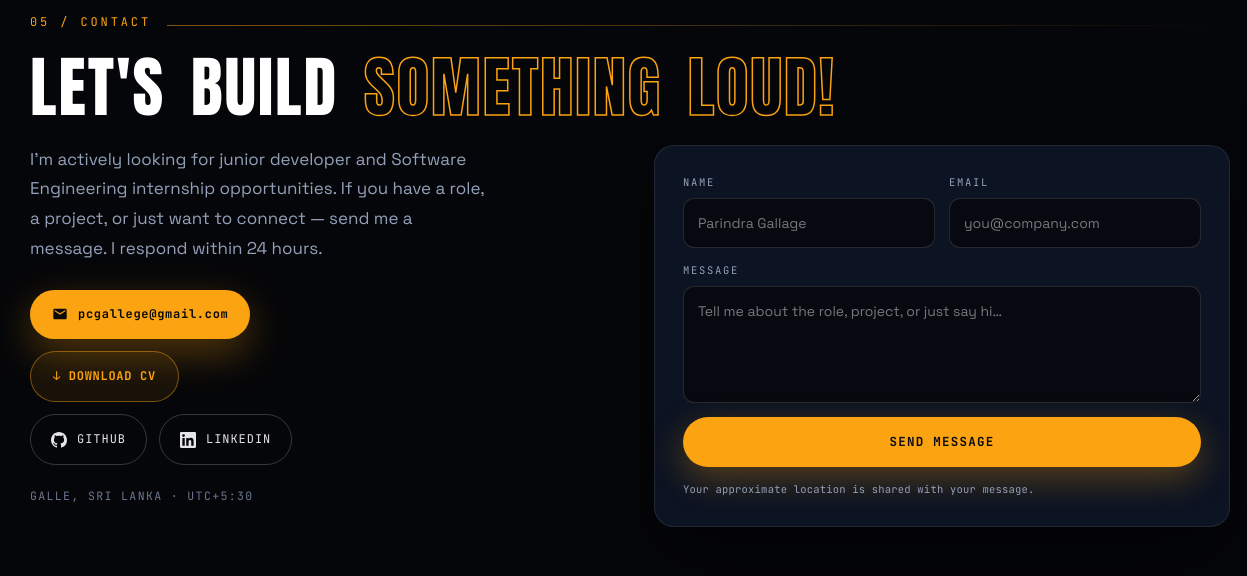
Test: form submission (Step 9 #11, #12, #13) › rejects a malformed email with the prototype's own copy
Step 1. Type "Ada" into the field labelled "NAME" → (809, 223), box [683,198,935,248]
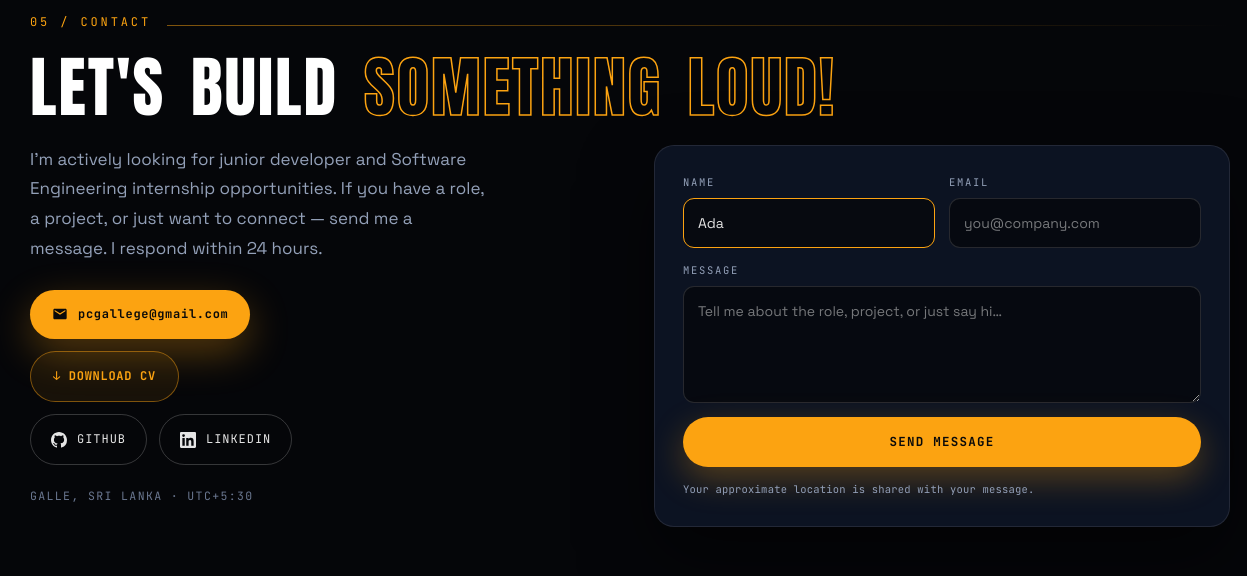
Step 2. Type "not-an-email" into the field labelled "EMAIL" → (1075, 223), box [949,198,1201,248]
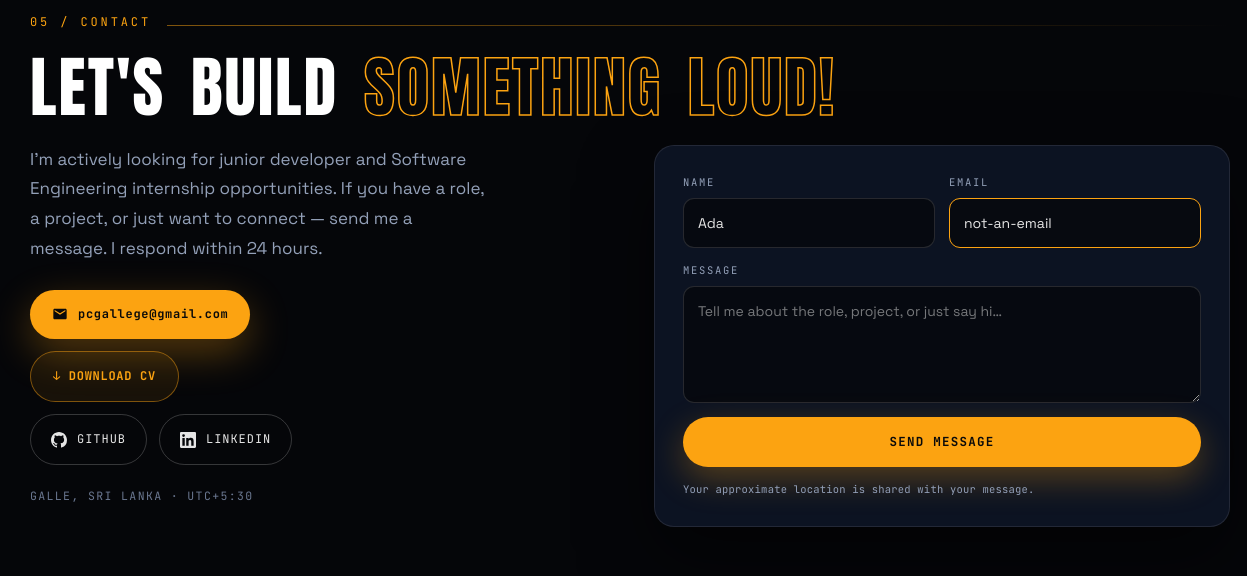
Step 3. Type "Hello there, this is long enough." into the text box labelled "MESSAGE" → (942, 344), box [683,286,1201,403]
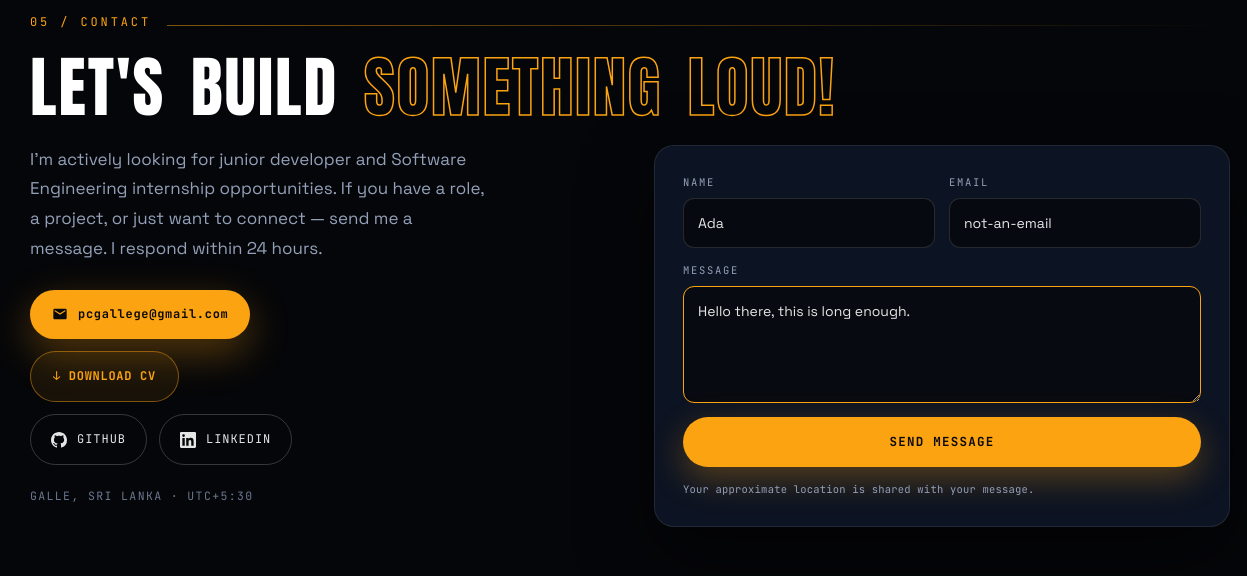
Step 4. Click the button "SEND MESSAGE" → (942, 442), box [683,417,1201,467]
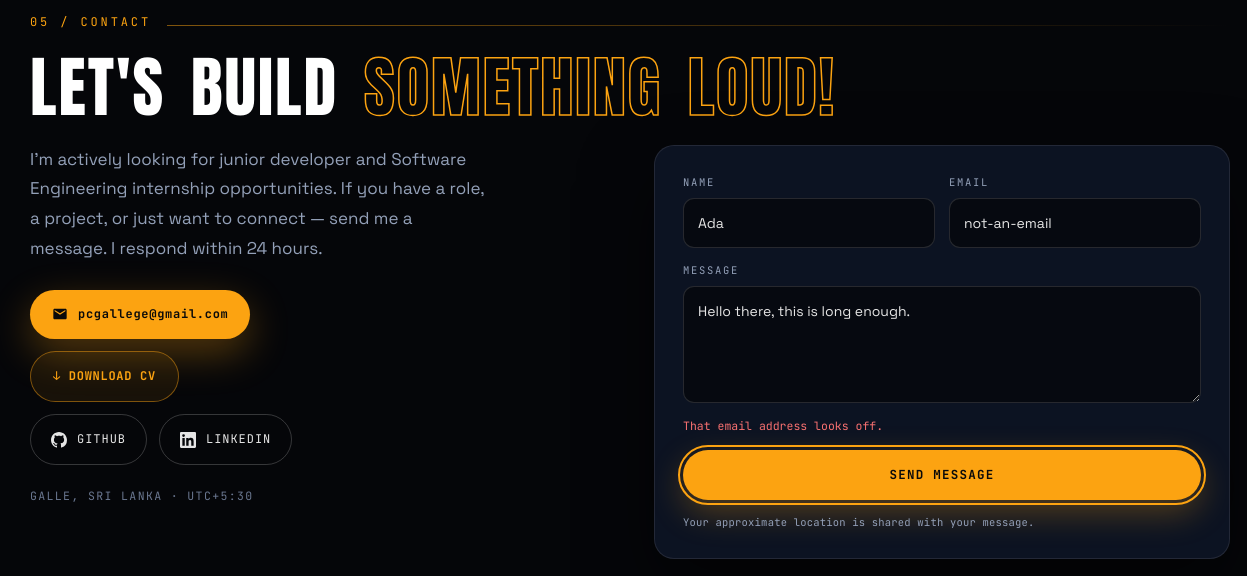
Now the message reads "That email address looks off.", box [683,418,883,433]
